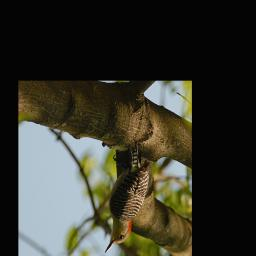Woodpecker: (104, 141, 150, 253)
